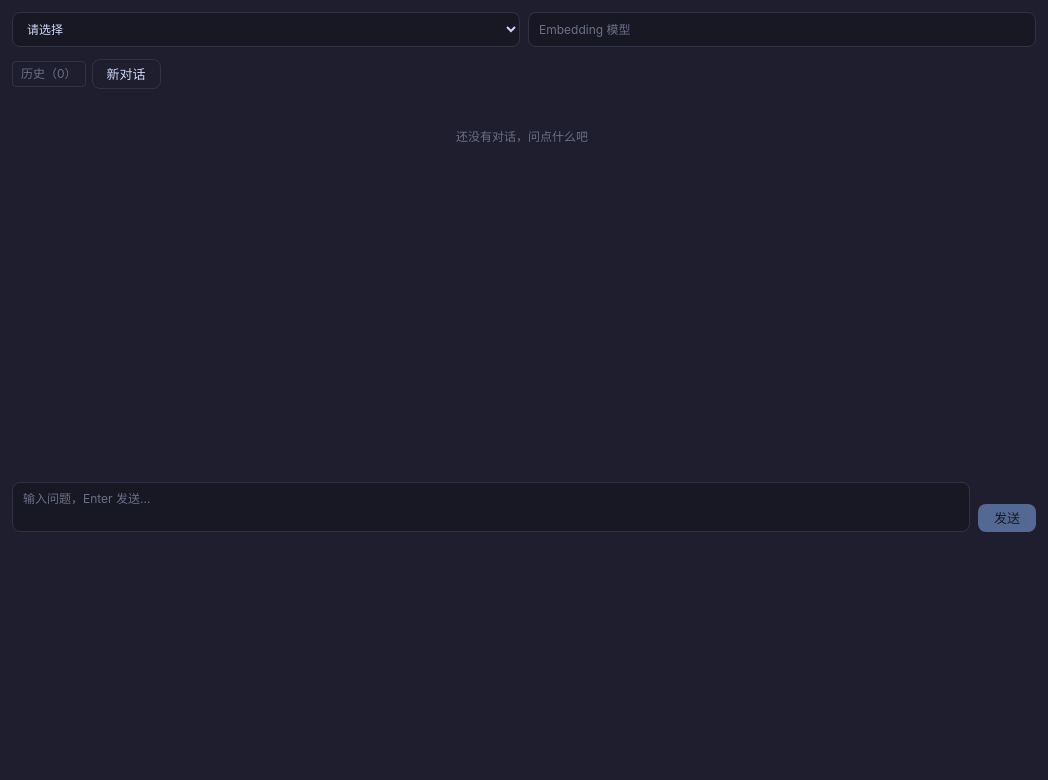
it: ① 知识库问答的「自动清理」下拉：真抛错不许把乐观值留在屏上 › 反向对照：resolve 的成功 ⇒ 新值留住 ＋ 那句「已保存」，一条 [ipc] 留痕都不许有
Click the button "历史（0）" at (49, 74), box [12,61,86,87]
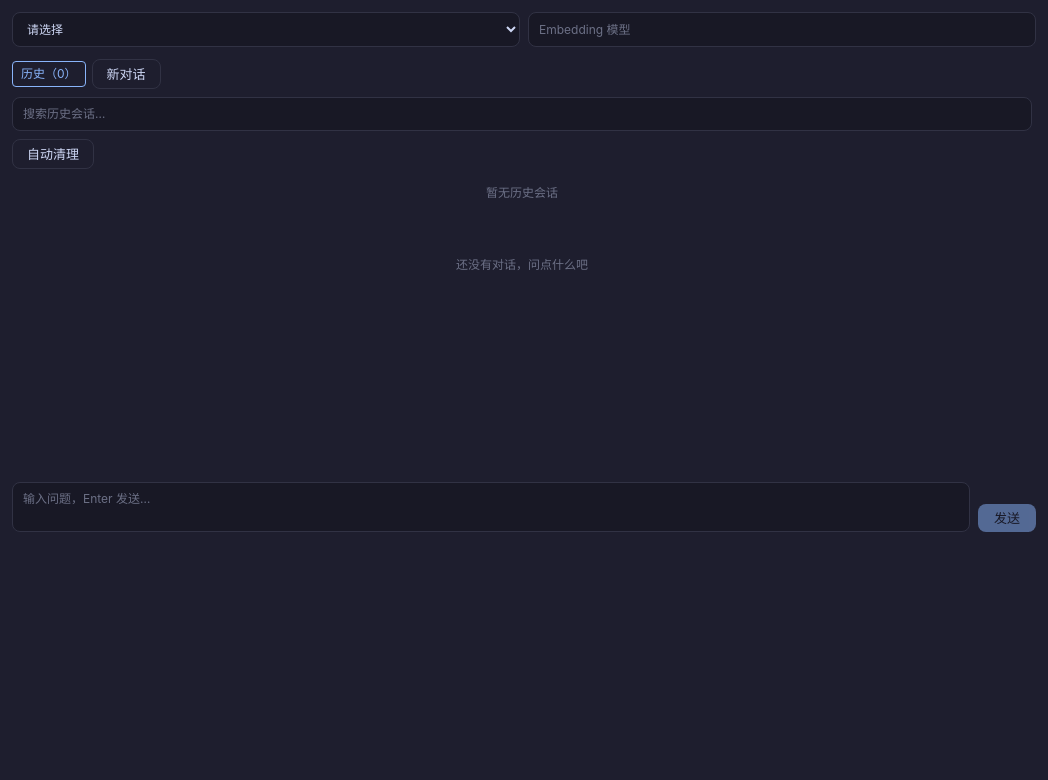
Click the button "自动清理" at (53, 154), box [12,139,94,169]
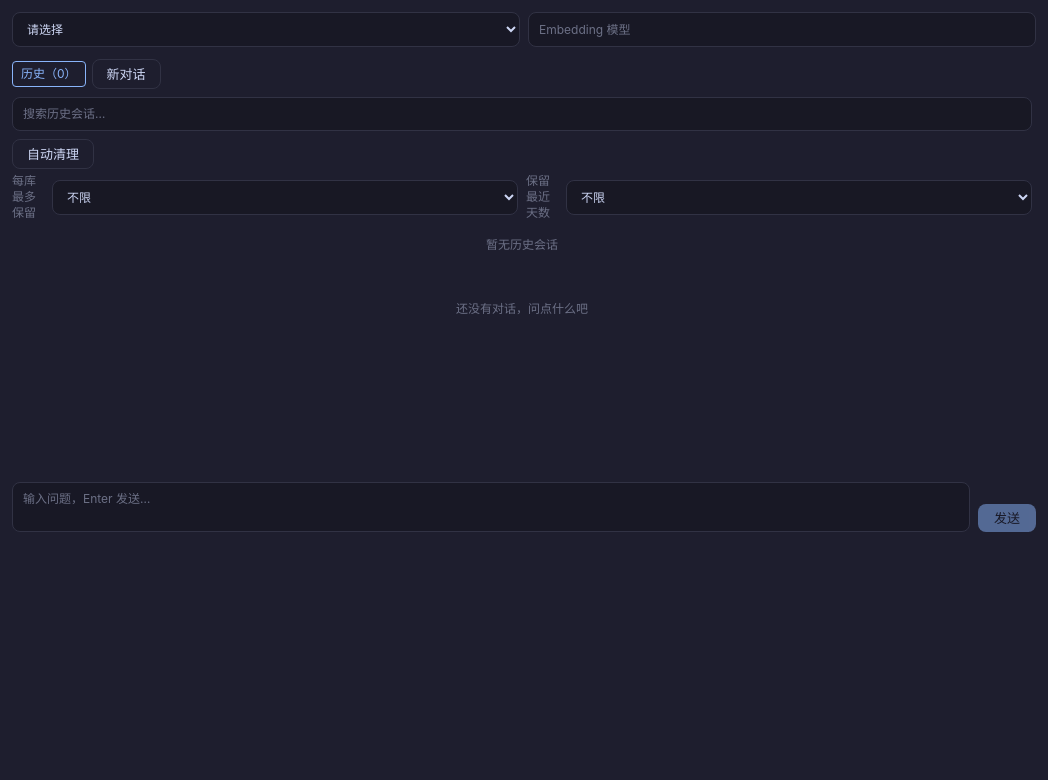
Select "50" in the 2nd dropdown at (285, 197), box [52,180,518,214]
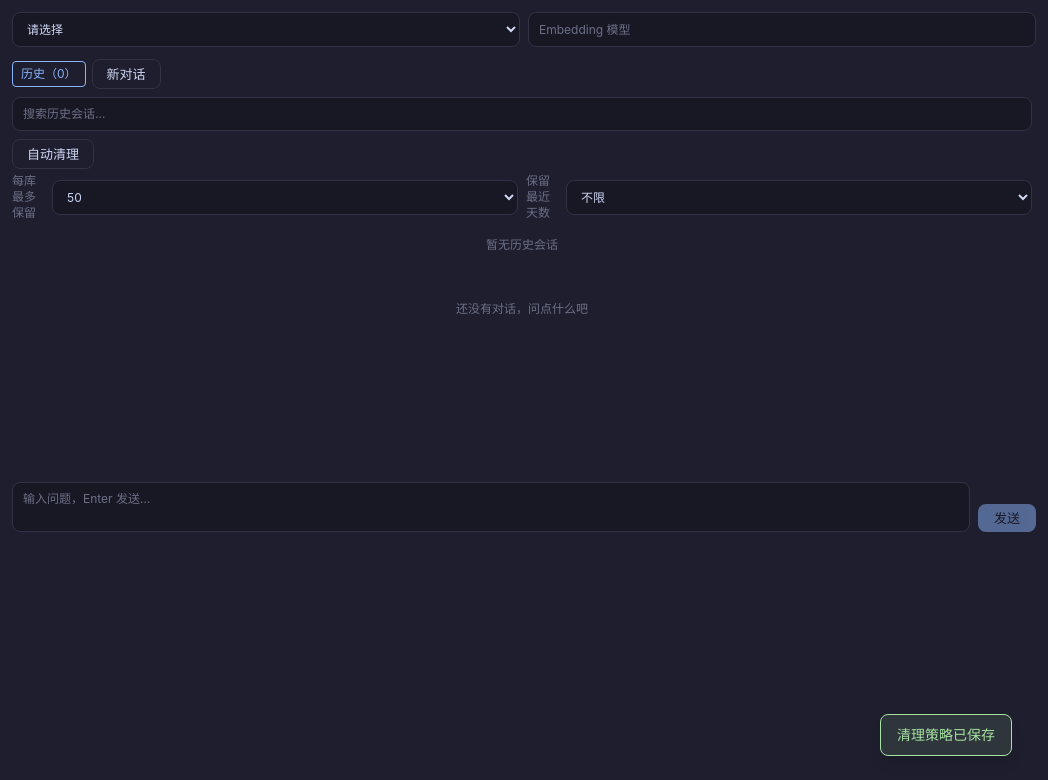
Expected: the message reads "清理策略已保存", [897,726,995,743]
